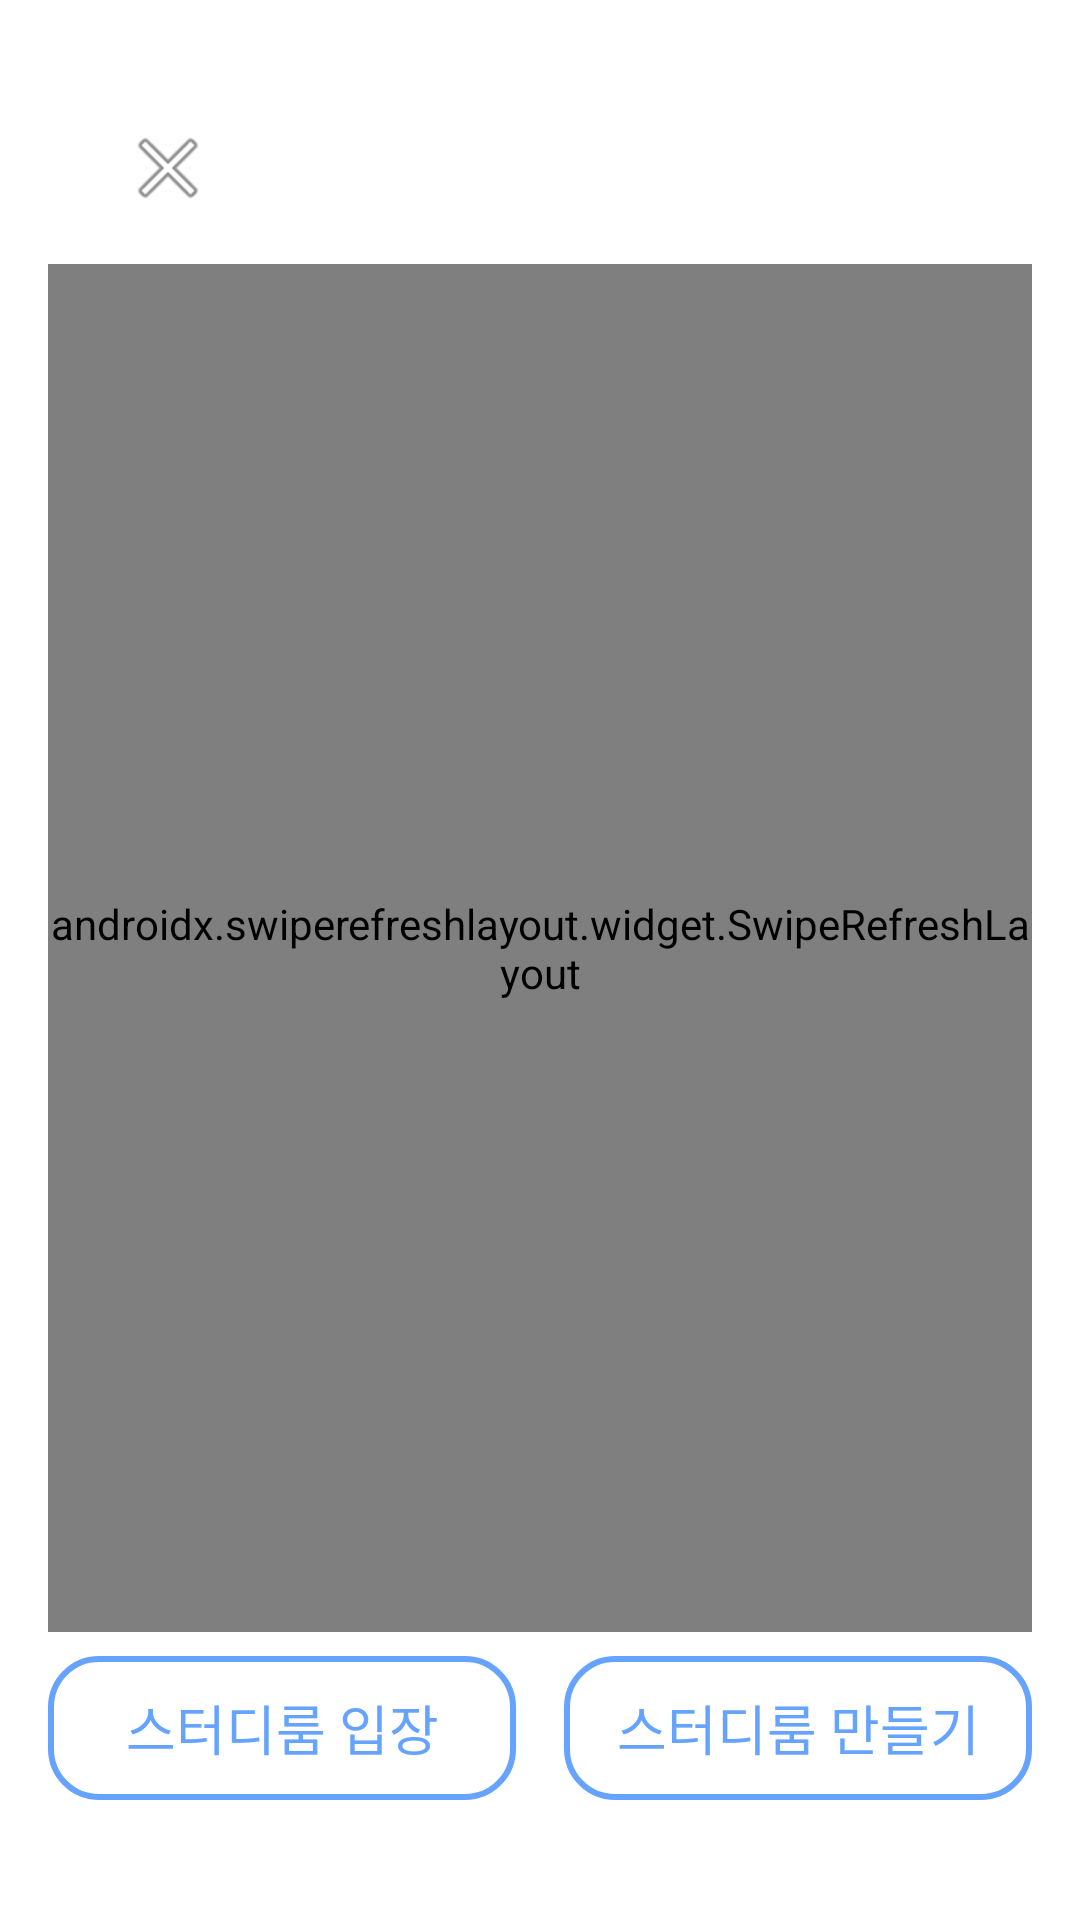

Named icons in this screenshot (1080*1920) and their centers, (x=x, y=y):
닫기: (x=168, y=168)
